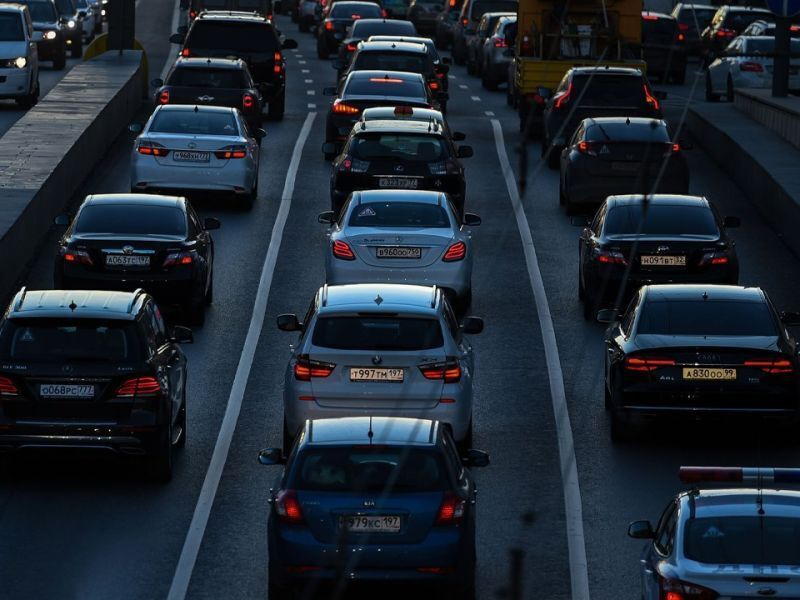Car: (258, 417, 489, 600), (0, 290, 193, 481), (276, 283, 484, 456), (596, 284, 800, 440), (627, 466, 800, 600), (53, 193, 220, 323), (571, 194, 739, 320), (319, 189, 481, 315), (506, 0, 646, 135), (129, 105, 268, 209), (322, 121, 473, 213), (552, 117, 692, 215), (168, 14, 298, 118), (538, 66, 667, 169), (323, 69, 450, 150), (151, 57, 268, 131), (330, 40, 450, 96), (706, 35, 800, 102), (0, 2, 46, 108), (0, 0, 69, 69), (700, 5, 775, 68), (453, 0, 518, 65), (317, 0, 384, 59), (357, 106, 465, 141), (642, 11, 688, 85), (341, 19, 418, 63), (465, 12, 517, 75), (367, 35, 452, 69), (479, 15, 517, 90), (670, 3, 720, 58), (180, 0, 275, 27), (178, 10, 261, 33), (56, 0, 87, 57), (404, 0, 446, 38), (434, 0, 465, 51), (72, 0, 100, 44), (741, 19, 800, 37), (370, 0, 410, 22), (312, 0, 335, 35), (88, 0, 108, 35), (298, 0, 318, 33), (508, 57, 520, 109)
